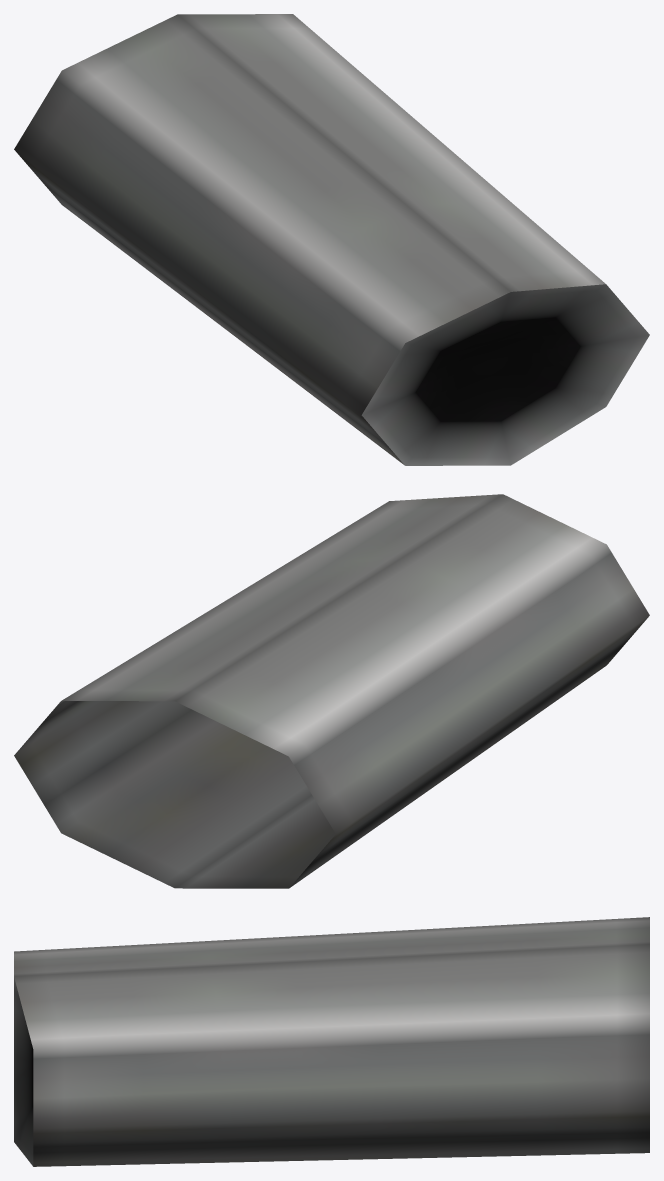
File: exh_lr_bl2.glb
3 renders of one model, top to bottom at view 1: azimuth 30°, elevation 25°; view 2: azimuth 150°, elevation 25°; view 3: azimuth 270°, elevation 25°, orthographic. The views are drawn at different scales.
Parts seen in each view (by area): view 1: exh_lr_bl2; view 2: exh_lr_bl2; view 3: exh_lr_bl2.
Part boxes in pixels (box(x1,y1,x2,y2)): exh_lr_bl2: box(14, 14, 649, 465); exh_lr_bl2: box(14, 494, 649, 888); exh_lr_bl2: box(14, 917, 649, 1166).
Bounding box in the file's own units: 0.1869 × 0.1131 × 0.3299.
1 material, 1 textured.
